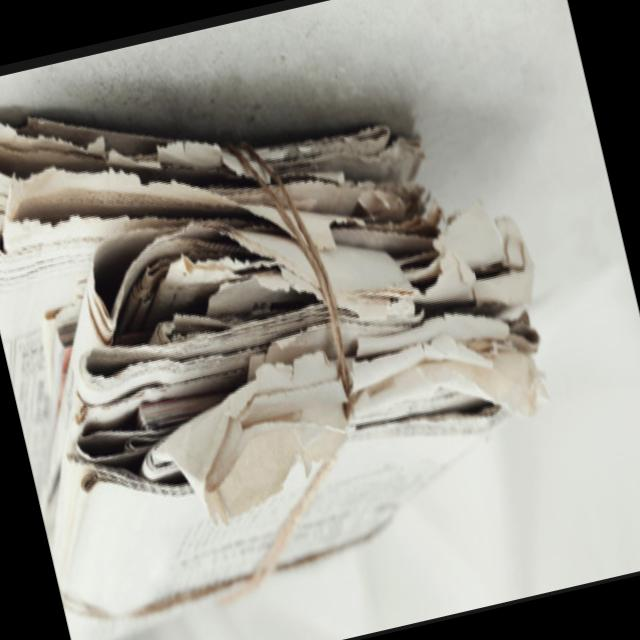Koran: (0, 7, 595, 640)
